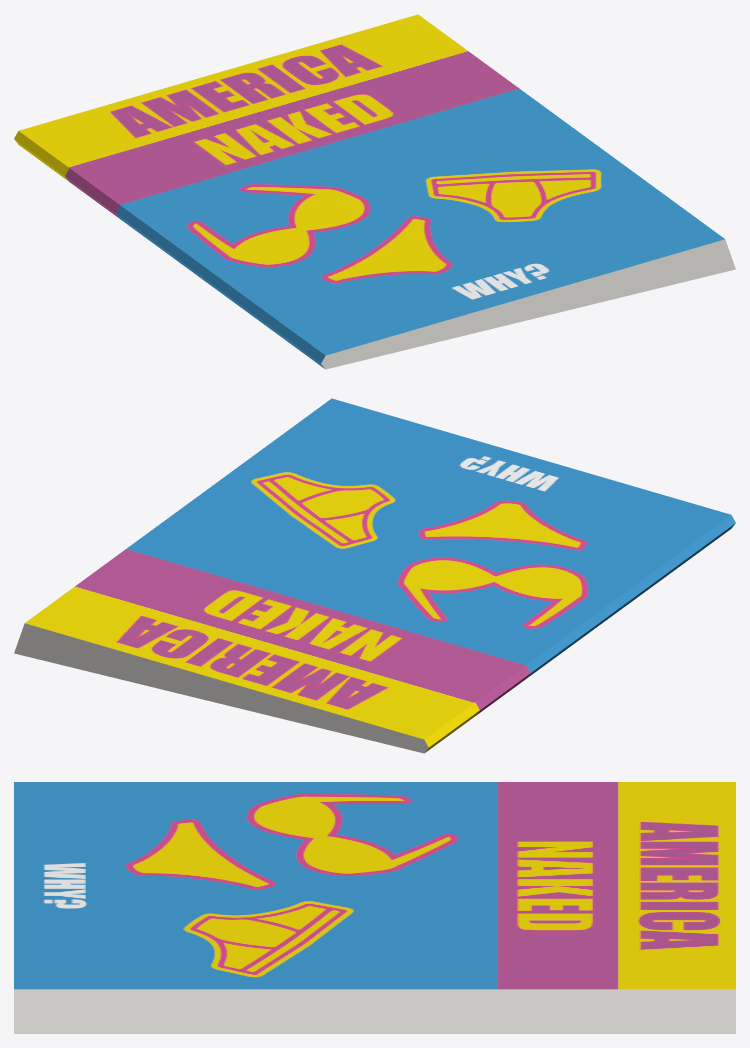
File: America naked 1.fbx
3 views of the same model, one above another, from view 1: azimuth 30°, elevation 25°; view 2: azimuth 150°, elevation 25°; view 3: azimuth 270°, elevation 25° (orthographic). The views are drawn at different scales.
Visible parts, largest first — view 1: Magazine; view 2: Magazine; view 3: Magazine.
Part boxes in pixels (x1,y1,x2,y2): Magazine: (14, 14, 735, 369); Magazine: (14, 398, 735, 753); Magazine: (14, 782, 735, 1033).
Bounding box in the file's own units: 21.84 × 1.65 × 28.
